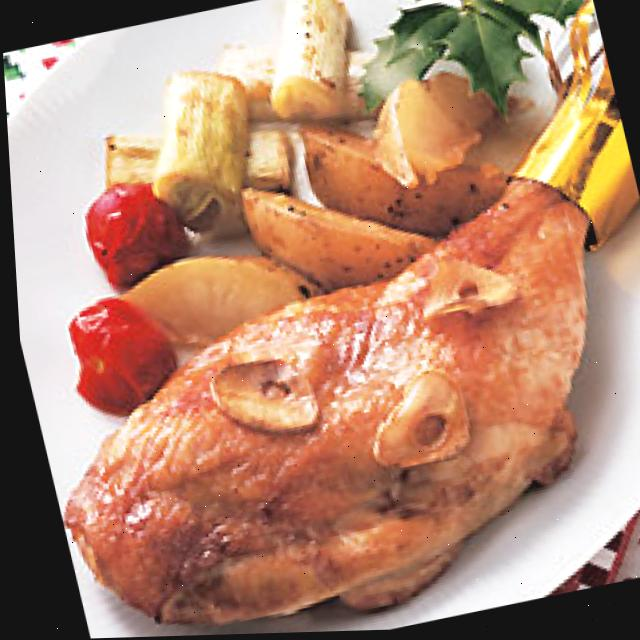鸡肉料理 含炸鸡: (1, 13, 640, 640)
